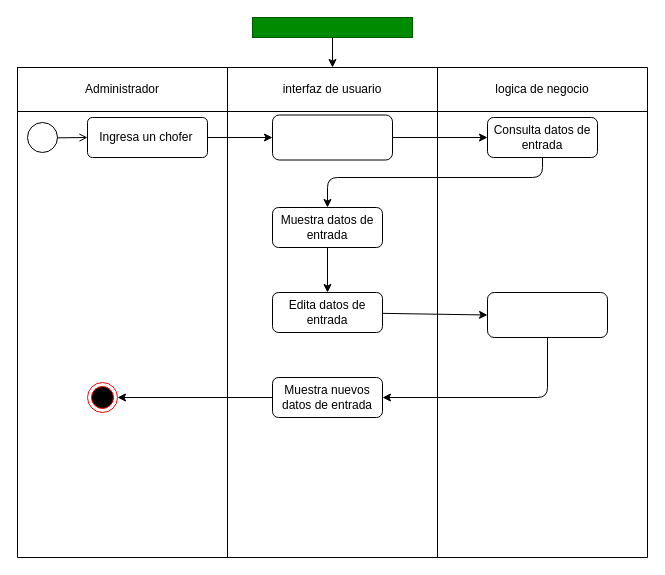
The diagram is 665 pixels wide and 575 high, and some of its shapes have lost their labels. Here are the shapes that lost their labels. From the top down, the centre of each, then its label:
[332,27]: ACTUALIZAR CHOFERES
[332,137]: Ingresa datos de entrada
[547,315]: Almacena datos editados de entrada
